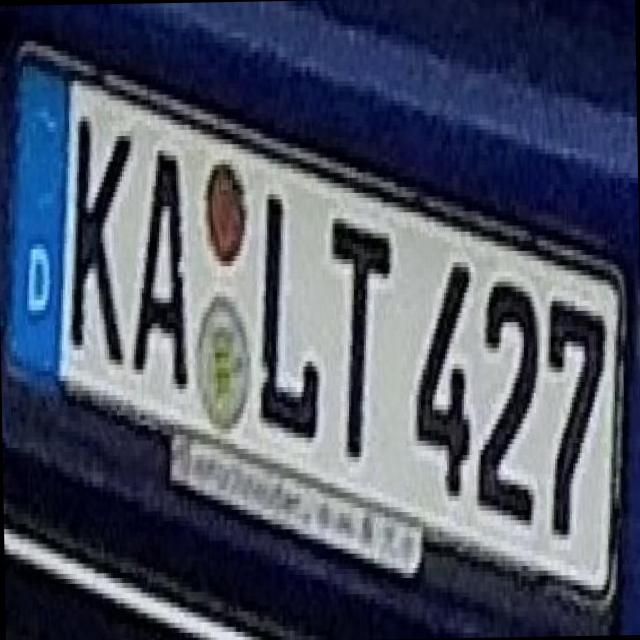2: (463, 266, 545, 526)
4: (404, 236, 481, 496)
7: (534, 280, 616, 534)
A: (118, 129, 207, 394)
K: (48, 94, 141, 376)
L: (241, 173, 327, 443)
T: (320, 202, 406, 462)
